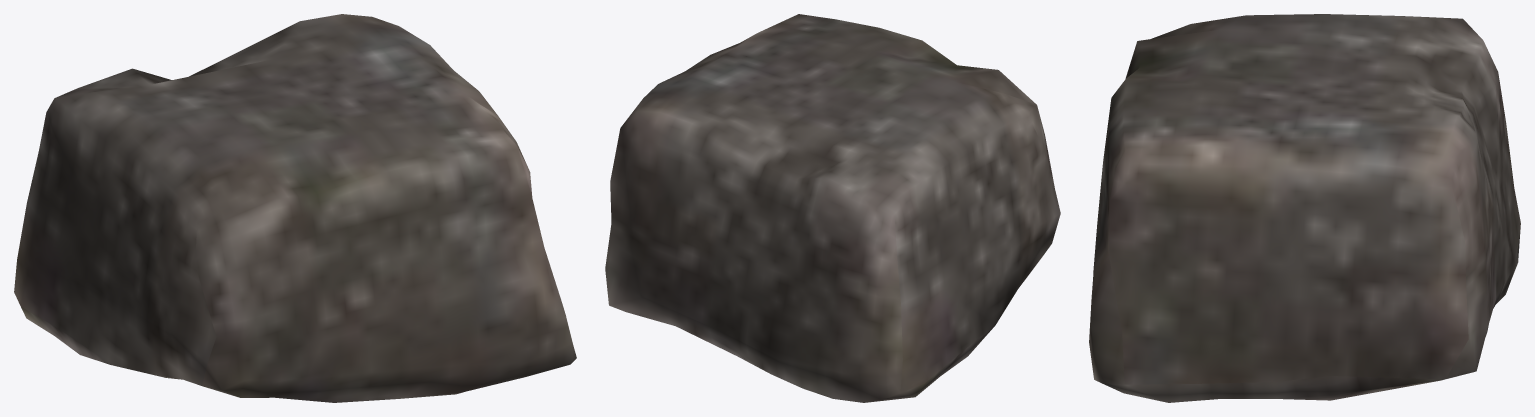
File: Ruins_Stone_B-transformed.glb
The picture shows the model from 3 angles, left to right: view 1: azimuth 30°, elevation 25°; view 2: azimuth 150°, elevation 25°; view 3: azimuth 270°, elevation 25°; orthographic projection. The views are drawn at different scales.
Visible parts, largest first — view 1: default; view 2: default; view 3: default.
Boxes of the visible parts, x1,y1,x2,y2 form: default: (14, 14, 576, 402); default: (605, 14, 1060, 402); default: (1089, 14, 1520, 402).
Bounding box in the file's own units: 1.02 × 0.6411 × 1.02.
Materials: 1 (1 with a texture image).
